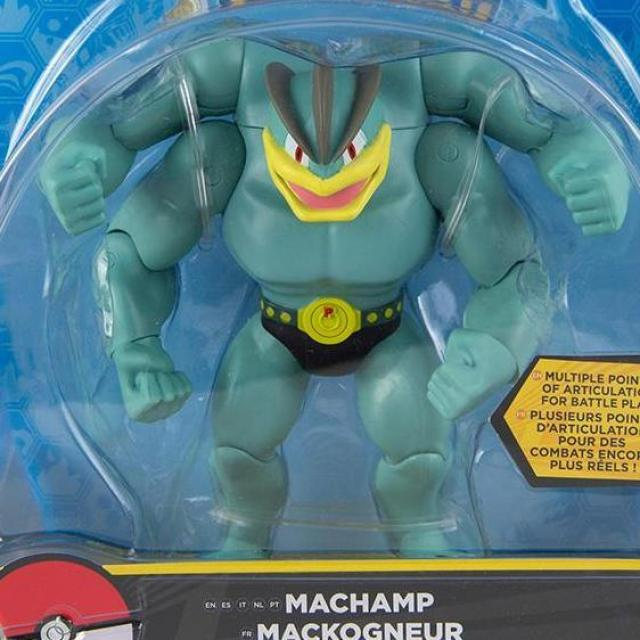Machamp: (74, 32, 572, 538)
